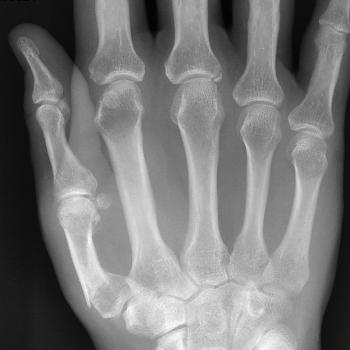Fracture: (77, 269, 117, 310)
